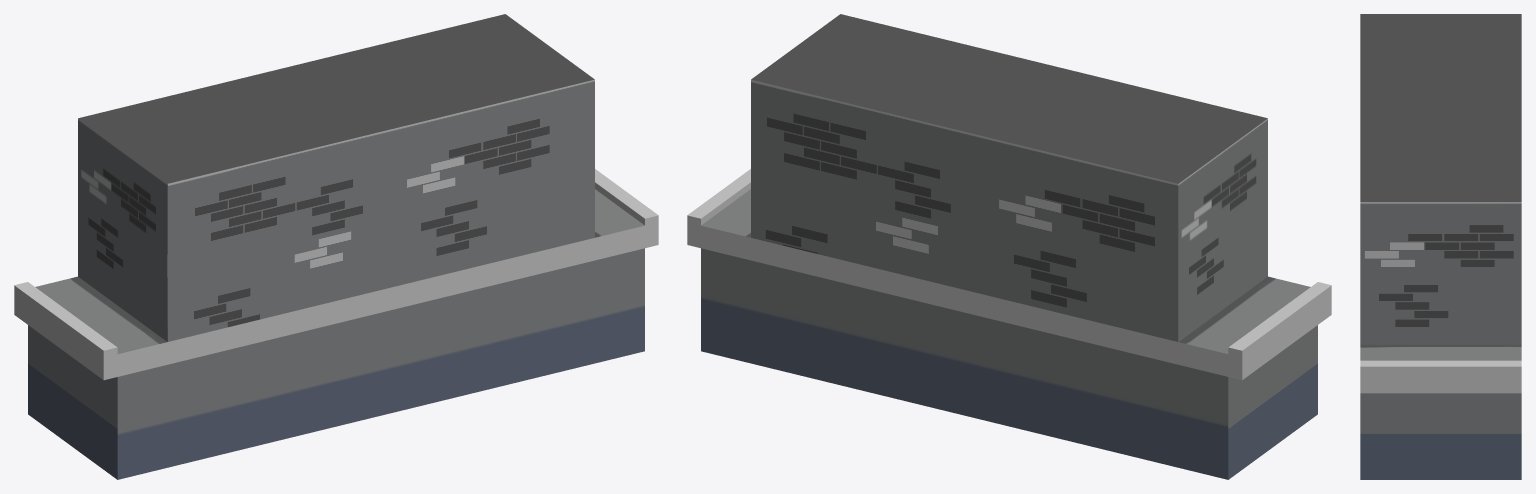
Rendered from Bridge3Beam0Middle.fbx.
The picture shows the model from 3 angles, left to right: view 1: azimuth 30°, elevation 25°; view 2: azimuth 150°, elevation 25°; view 3: azimuth 270°, elevation 25°; orthographic projection. The views are drawn at different scales.
Parts seen in each view (by area): view 1: Bridge3Beam0Middle; view 2: Bridge3Beam0Middle; view 3: Bridge3Beam0Middle.
Part boxes in pixels (x1,y1,x2,y2): Bridge3Beam0Middle: (14, 14, 658, 479); Bridge3Beam0Middle: (687, 14, 1331, 479); Bridge3Beam0Middle: (1360, 14, 1521, 479).
Bounding box in the file's own units: 19.83 × 9.69 × 5.54.
